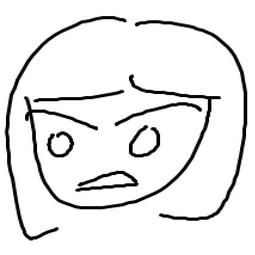empty_eye: (126, 124, 165, 160), (44, 129, 76, 161)
frowning_eyebrow: (113, 99, 204, 127), (29, 105, 99, 132)
open_mouth: (75, 167, 139, 195)
